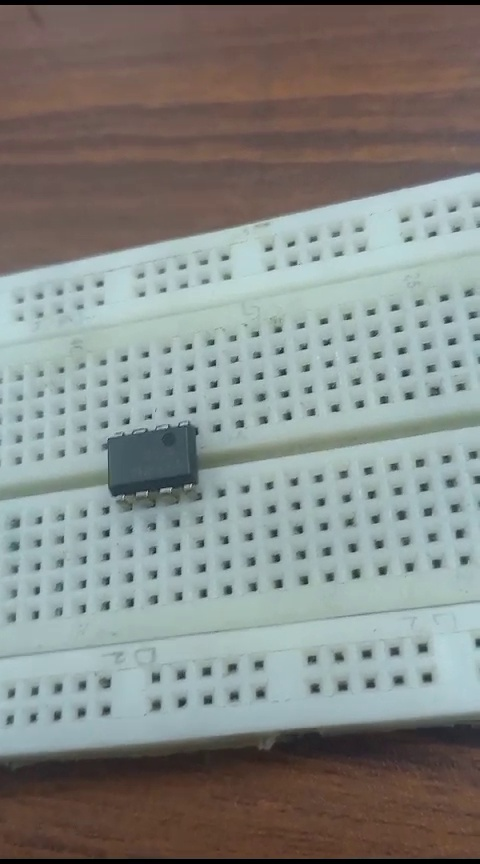IC: (98, 421, 216, 500)
